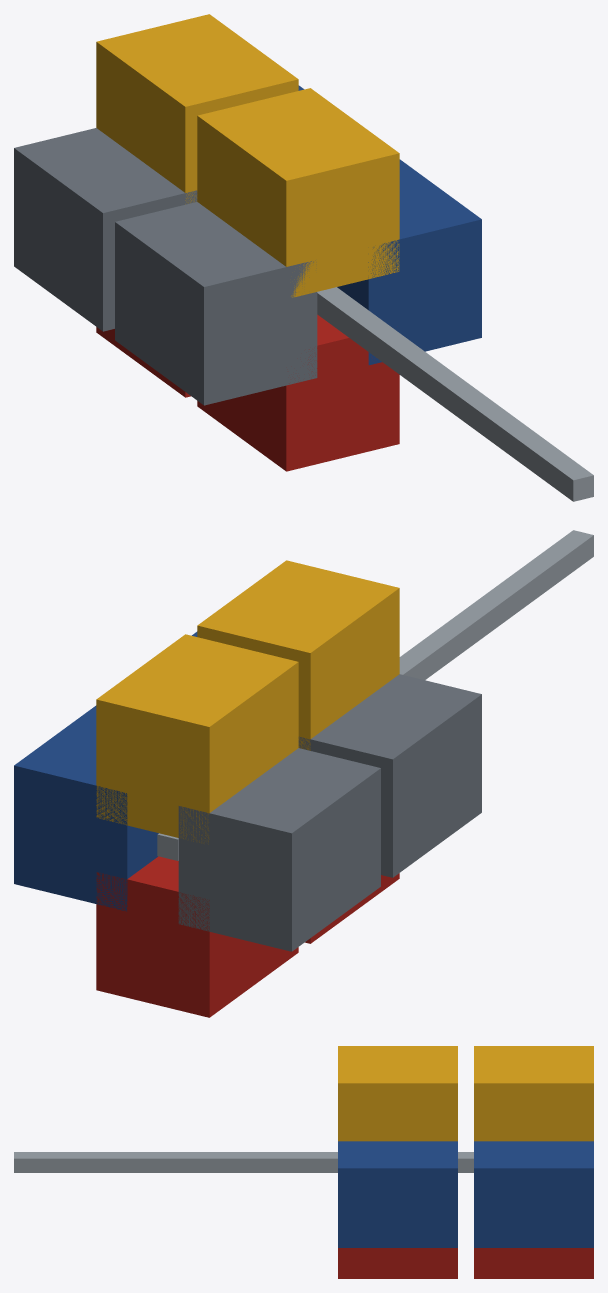
Rendered from space_orbital_depot_t1_lod2.glb.
3 views of the same model, one above another, from view 1: azimuth 30°, elevation 25°; view 2: azimuth 150°, elevation 25°; view 3: azimuth 270°, elevation 25° (orthographic). The views are drawn at different scales.
Visible parts, largest first — view 1: body; view 2: body; view 3: body.
Boxes of the visible parts, x1,y1,x2,y2 form: body: (14,14,593,501); body: (14,530,593,1017); body: (14,1046,593,1278).
Size of the model in its own units: 5.4 by 5.4 by 14.5.
